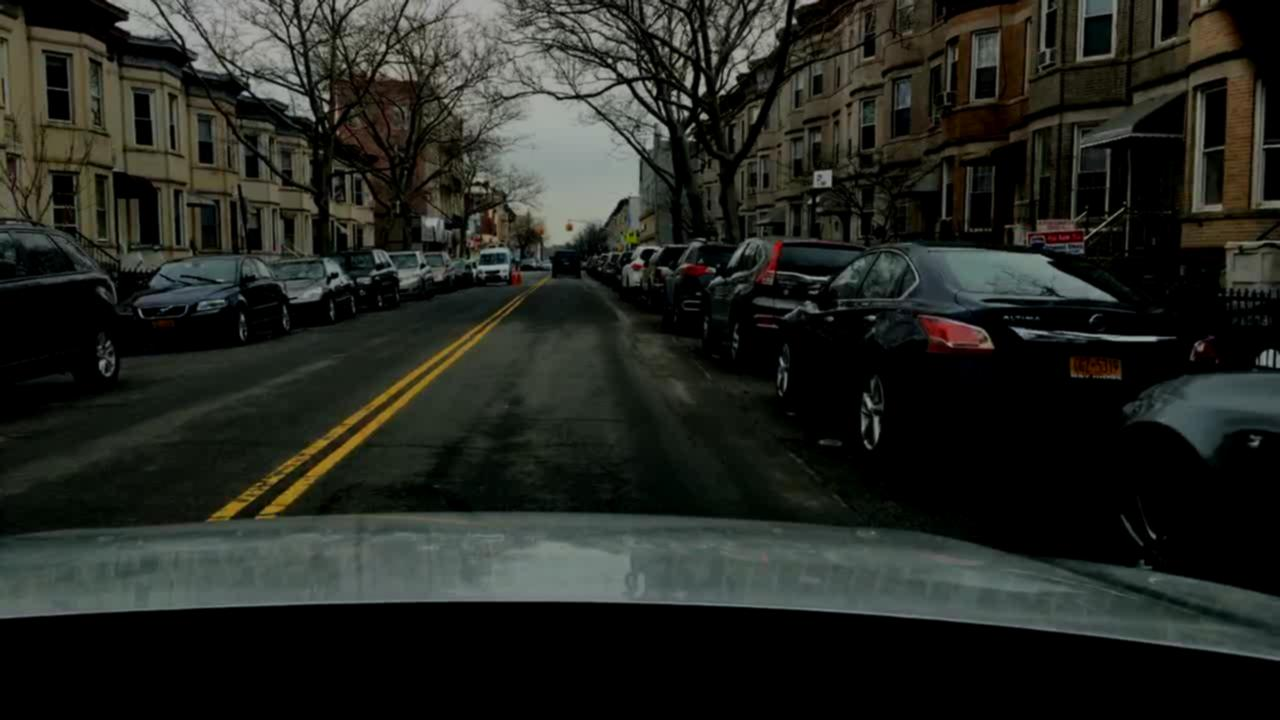Nissan: (1085, 308, 1113, 338)
